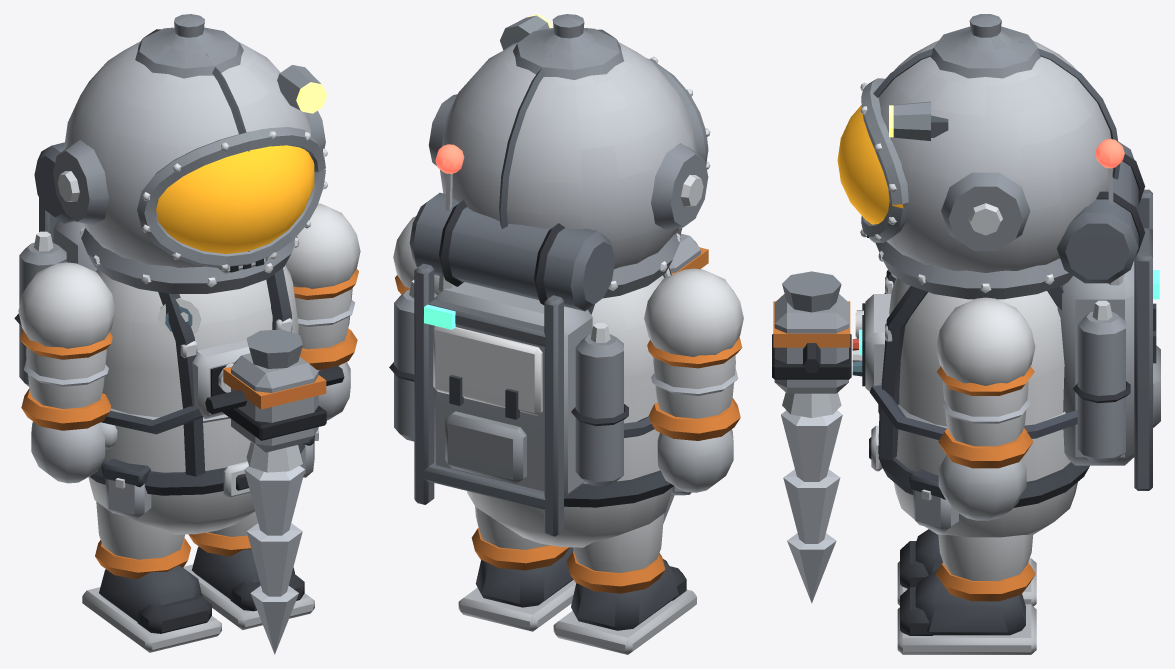
The model's file is astronaut.glb.
The picture shows the model from 3 angles, left to right: view 1: azimuth 30°, elevation 25°; view 2: azimuth 150°, elevation 25°; view 3: azimuth 270°, elevation 25°; orthographic projection. The views are drawn at different scales.
Visible parts, largest first — view 1: astro_body, astro_armL, astro_legL, astro_drill, astro_armR, astro_drillBit, astro_legR; view 2: astro_body, astro_armL, astro_legL, astro_legR, astro_armR, astro_drill, astro_antennaTip; view 3: astro_body, astro_armR, astro_legR, astro_drill, astro_drillBit, astro_legL, astro_antennaTip.
Part boxes in pixels (x1=…): astro_body: x1=14, y1=14, x2=327, y2=534; astro_armL: x1=18, y1=262, x2=117, y2=483; astro_legL: x1=82, y1=501, x2=221, y2=652; astro_drill: x1=205, y1=329, x2=344, y2=472; astro_armR: x1=285, y1=203, x2=360, y2=420; astro_drillBit: x1=244, y1=465, x2=304, y2=654; astro_legR: x1=183, y1=511, x2=314, y2=629; astro_body: x1=389, y1=14, x2=710, y2=547; astro_armL: x1=644, y1=268, x2=743, y2=492; astro_legL: x1=553, y1=513, x2=696, y2=654; astro_legR: x1=458, y1=506, x2=576, y2=631; astro_armR: x1=393, y1=216, x2=440, y2=294; astro_drill: x1=669, y1=227, x2=708, y2=274; astro_antennaTip: x1=435, y1=144, x2=464, y2=173; astro_body: x1=837, y1=14, x2=1160, y2=537; astro_armR: x1=936, y1=297, x2=1035, y2=520; astro_legR: x1=897, y1=534, x2=1036, y2=654; astro_drill: x1=772, y1=271, x2=851, y2=417; astro_drillBit: x1=781, y1=410, x2=842, y2=603; astro_legL: x1=897, y1=529, x2=1036, y2=606; astro_antennaTip: x1=1095, y1=139, x2=1124, y2=168.
Bounding box in the file's own units: 1.56 × 2.65 × 1.57.
